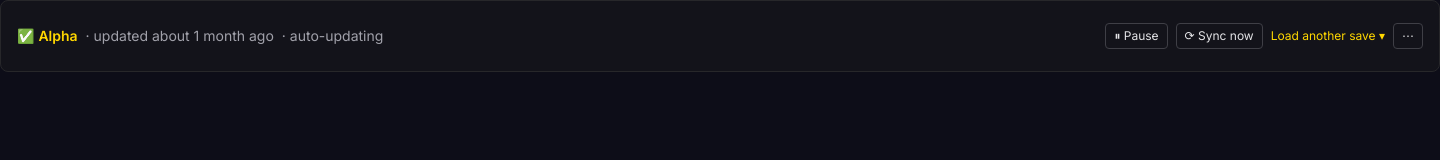
Scenario: ProfileNameLoader — compact (tracker pages) › signed in: ⋯ closes when focus leaves it; Stop auto-sync hands focus back to ⋯
Click the button named "More account actions" at {"x": 1408, "y": 36}, box [1393,23,1423,49]
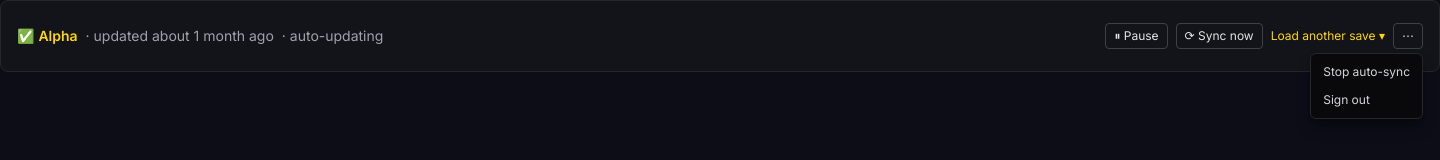
Leave the button "Sign out", box [1311,86,1422,114]
# Tabbing out closes it.
Leave the button "Sign out", box [1311,86,1422,114]
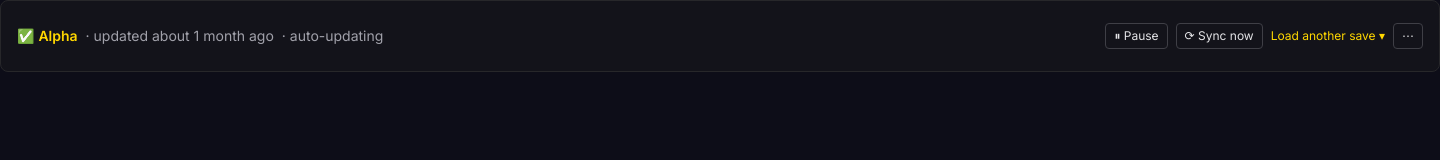
Click the button named "More account actions" at {"x": 1408, "y": 36}, box [1393,23,1423,49]
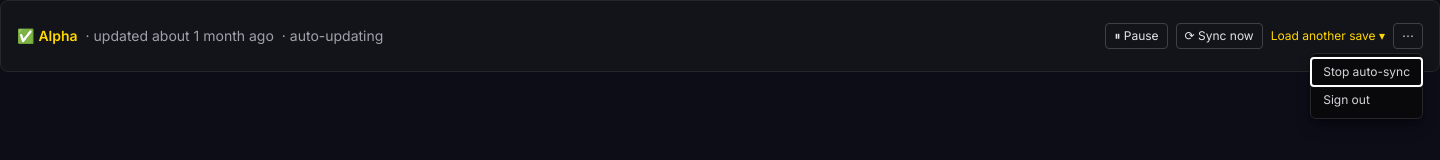
Click the button "Stop auto-sync" at {"x": 1367, "y": 72}, box [1311,58,1422,86]
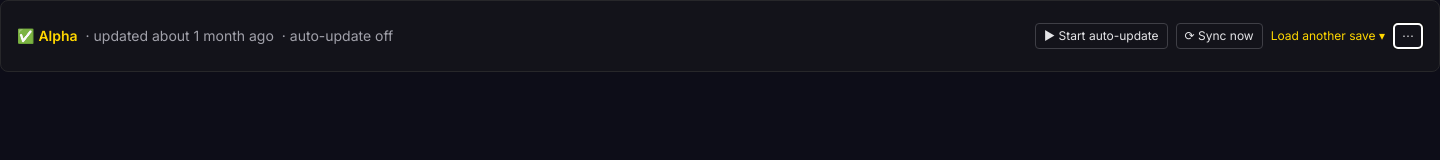
Check: the button named "More account actions" is collapsed, box [1393,23,1423,49]
